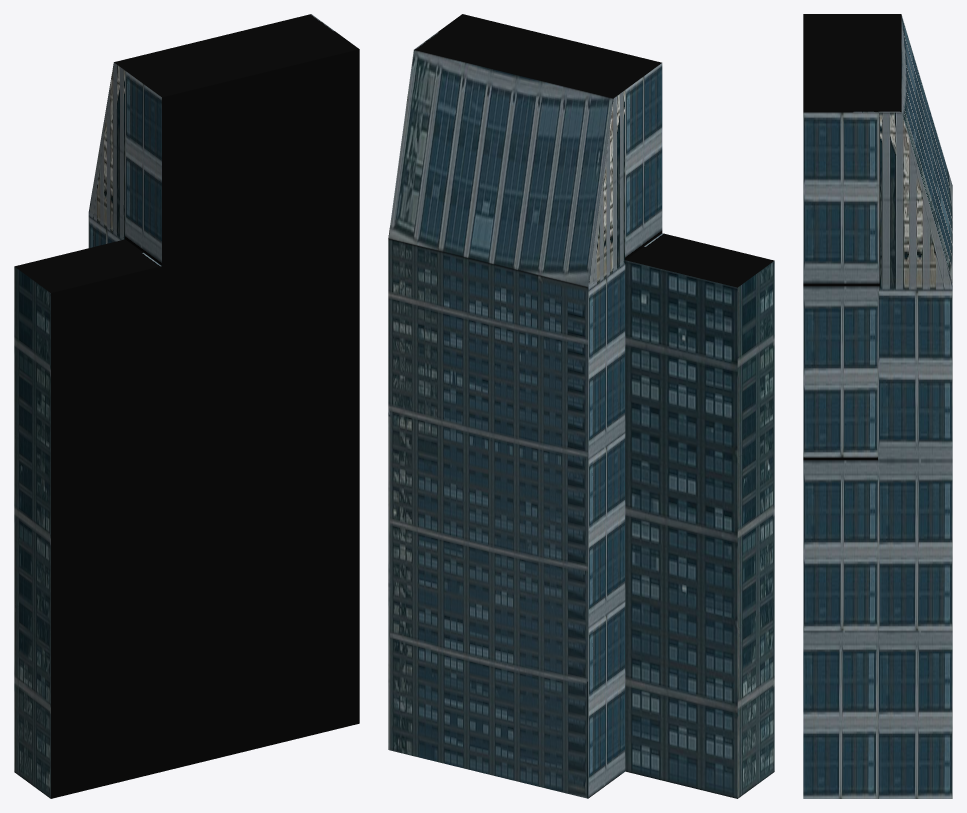
File: skyscraper1.gltf
The picture shows the model from 3 angles, left to right: view 1: azimuth 30°, elevation 25°; view 2: azimuth 150°, elevation 25°; view 3: azimuth 270°, elevation 25°; orthographic projection.
Parts seen in each view (by area): view 1: Cube; view 2: Cube; view 3: Cube.
Boxes of the visible parts, bbox=[...] form: Cube: bbox=[14, 14, 359, 798]; Cube: bbox=[388, 14, 774, 798]; Cube: bbox=[803, 14, 952, 798].
Size of the model in its own units: 3.12 by 6.52 by 1.29.
Materials: 1 (1 with a texture image).
